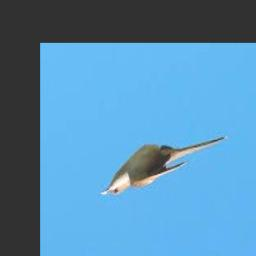Cuckoo: (100, 136, 226, 196)
